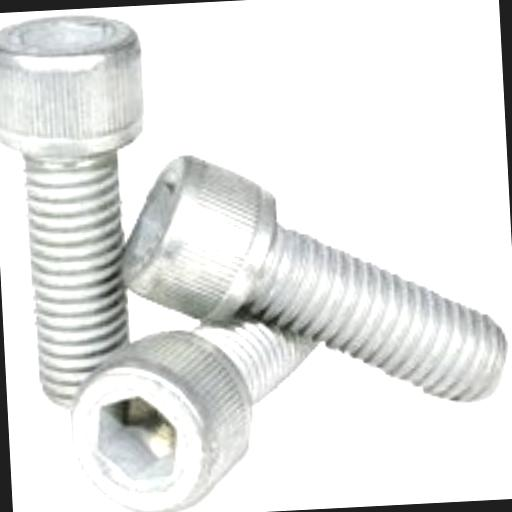Hex-Allen: (64, 319, 245, 512)
